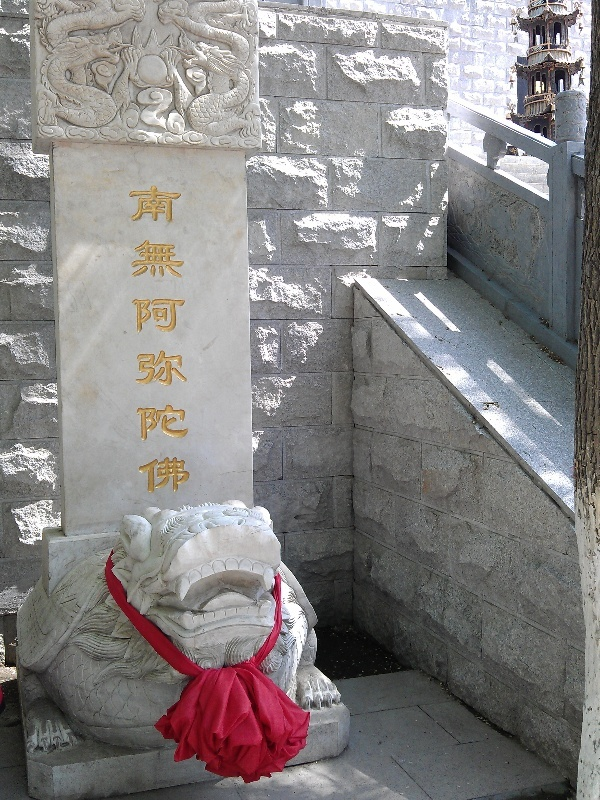text: (129, 185, 144, 495), (145, 185, 160, 495), (161, 185, 176, 495), (177, 185, 191, 495), (127, 185, 128, 495)
